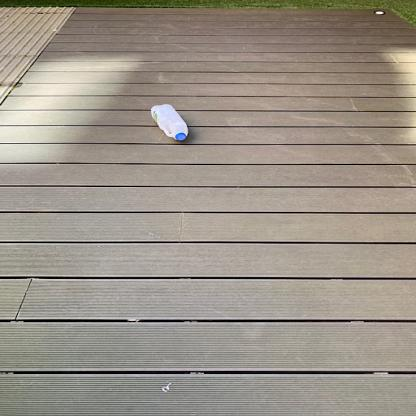trash: (150, 104, 192, 144)
